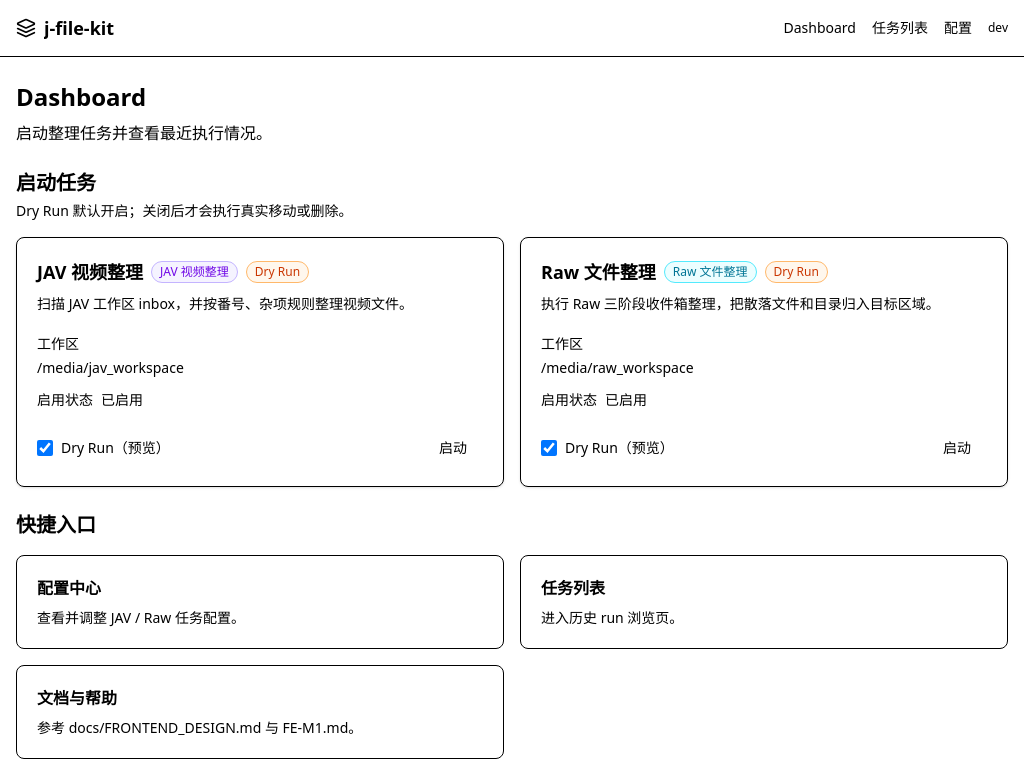
Dashboard page › shows error when start task API fails
Click the button "启动" below "扫描 JAV 工作区 inbox，并按番号、杂项规则整理视频文件。" at (453, 448), box [423,430,483,466]
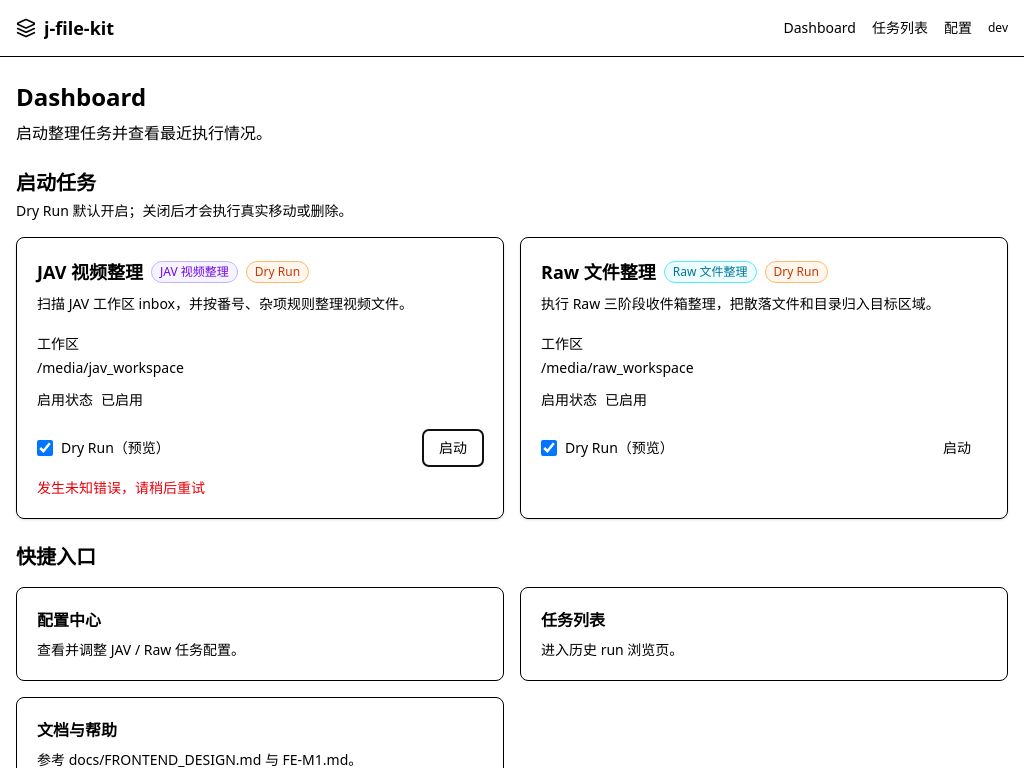
Now the text "发生未知错误，请稍后重试" is shown, box [37,478,205,497]
